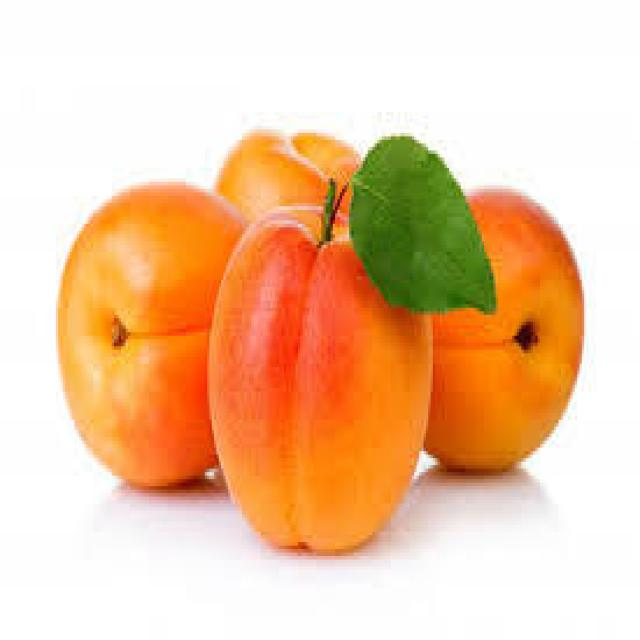kayisi: (203, 201, 441, 554), (51, 175, 246, 492)
yaprak: (349, 132, 499, 323)
